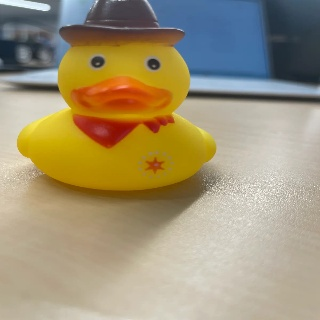duck_specialty: (15, 0, 215, 191)
